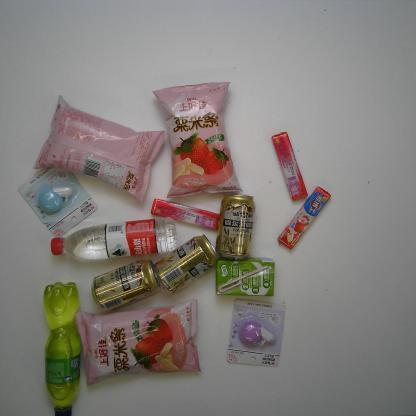Alcohol: (152, 234, 220, 294), (91, 259, 160, 313), (215, 192, 256, 260)
Candy: (277, 186, 331, 250), (271, 131, 308, 201), (151, 198, 219, 230)
Drink: (51, 217, 177, 261), (43, 282, 81, 416)
Milk: (215, 257, 275, 297)
Puffed Food: (31, 94, 166, 204), (75, 299, 202, 386), (152, 82, 243, 198)
Stationery: (18, 167, 98, 238), (226, 299, 286, 368)
